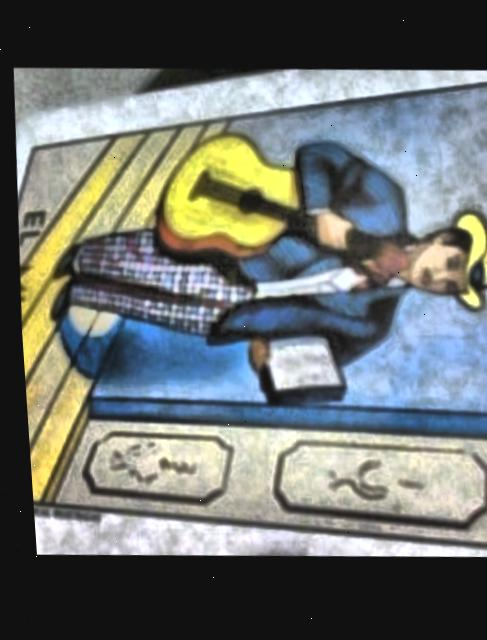El Musico: (15, 88, 487, 550)
